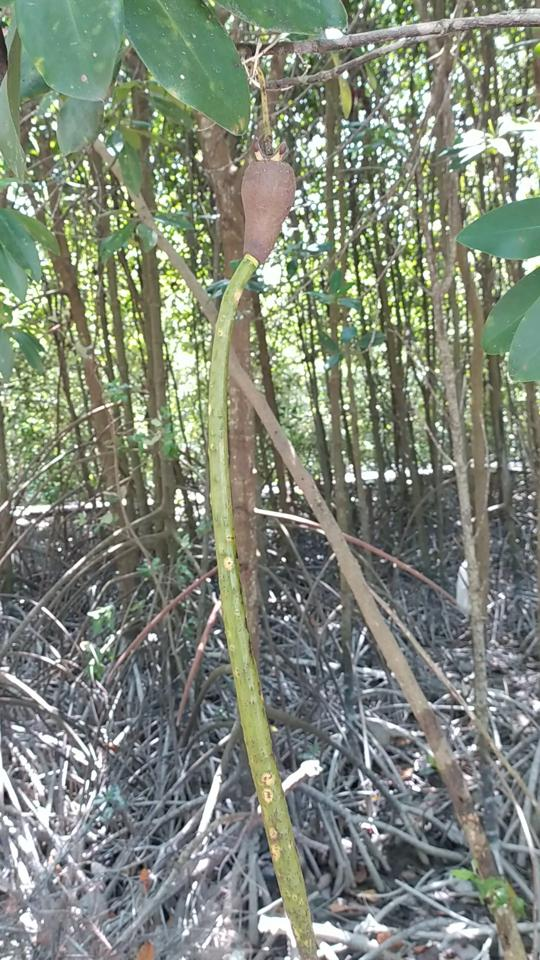setengah matang: (202, 134, 338, 959)
